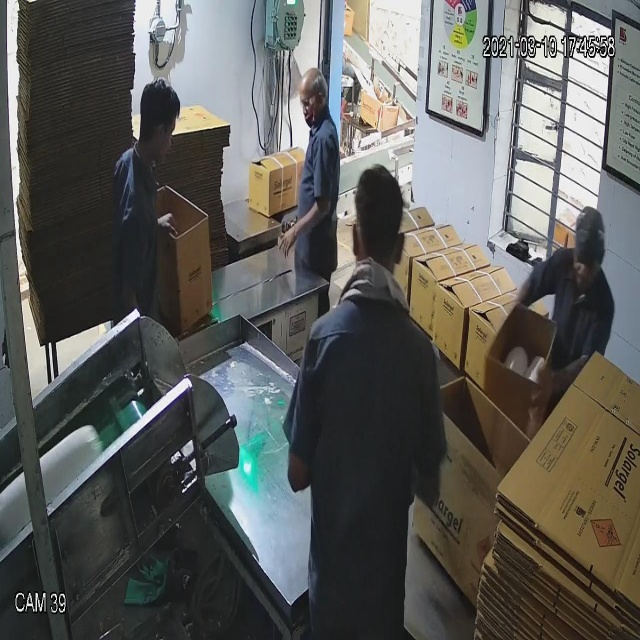Sin_guantes: (269, 188, 346, 264)
